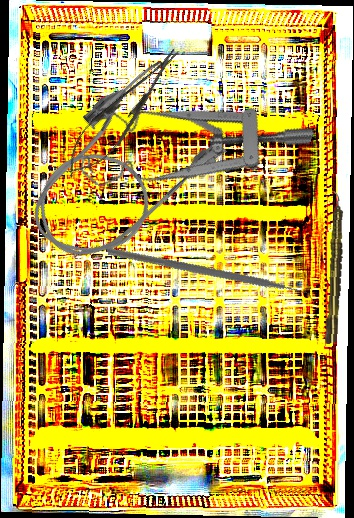Cannula: (2, 50, 238, 285)
Chopper: (106, 187, 316, 371)
Handpiece: (324, 190, 346, 345)
Needle Holder: (53, 37, 193, 188)
Speculum: (70, 55, 316, 249)
